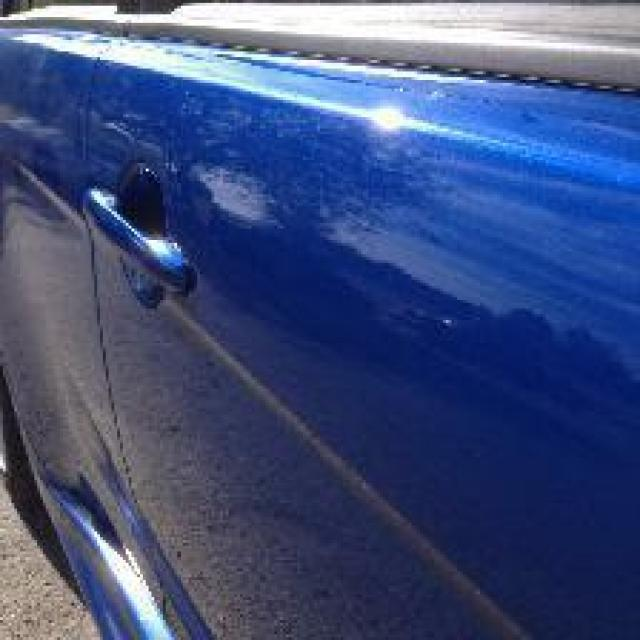damaged: (31, 472, 200, 637)
